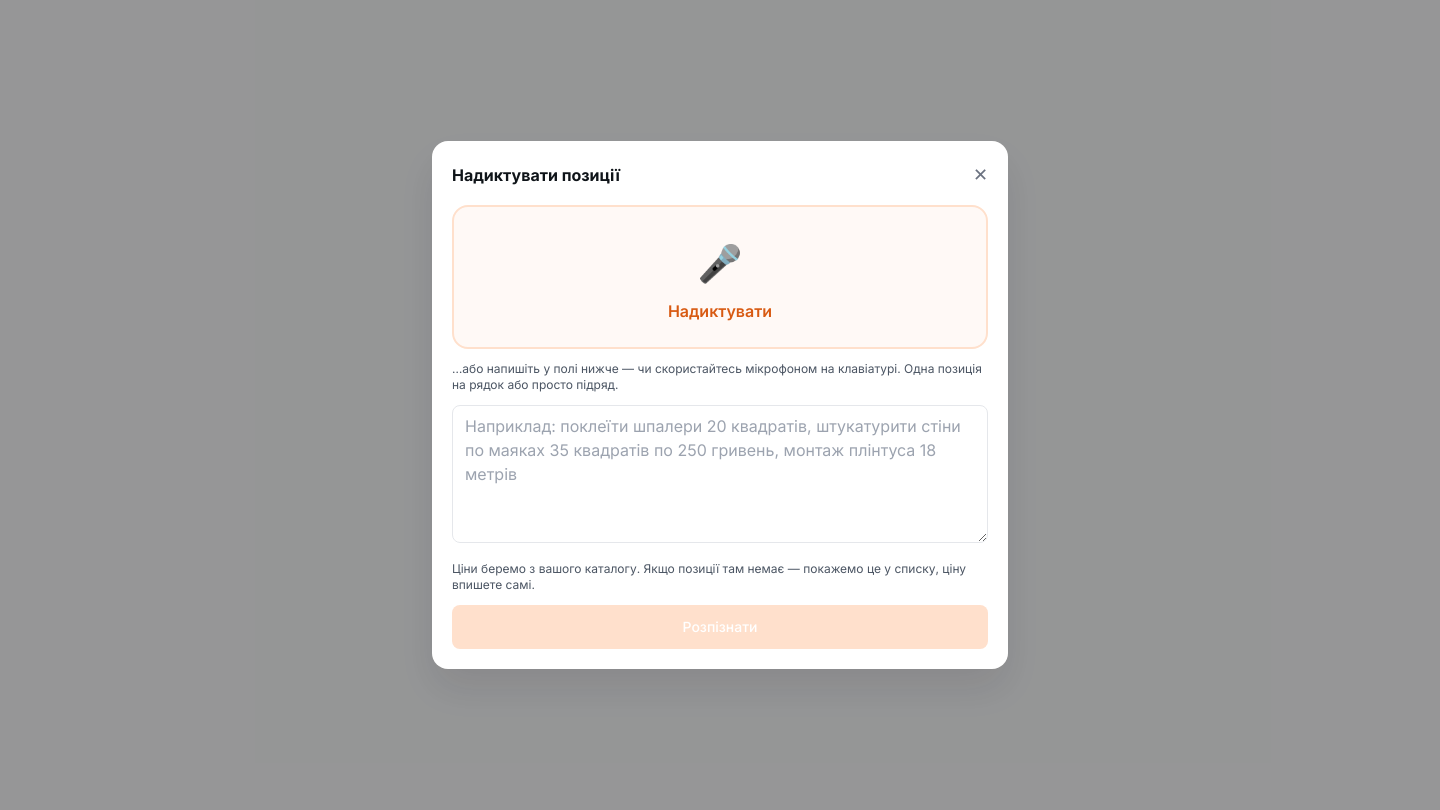
DictationSheet › blocks the commit while a row has no unit, since the estimate line cannot carry one
Replace the text in the text box named "Текст із позиціями" with "поклеїти шпалери двадцять квадратів": (720, 474) [452,405,988,543]
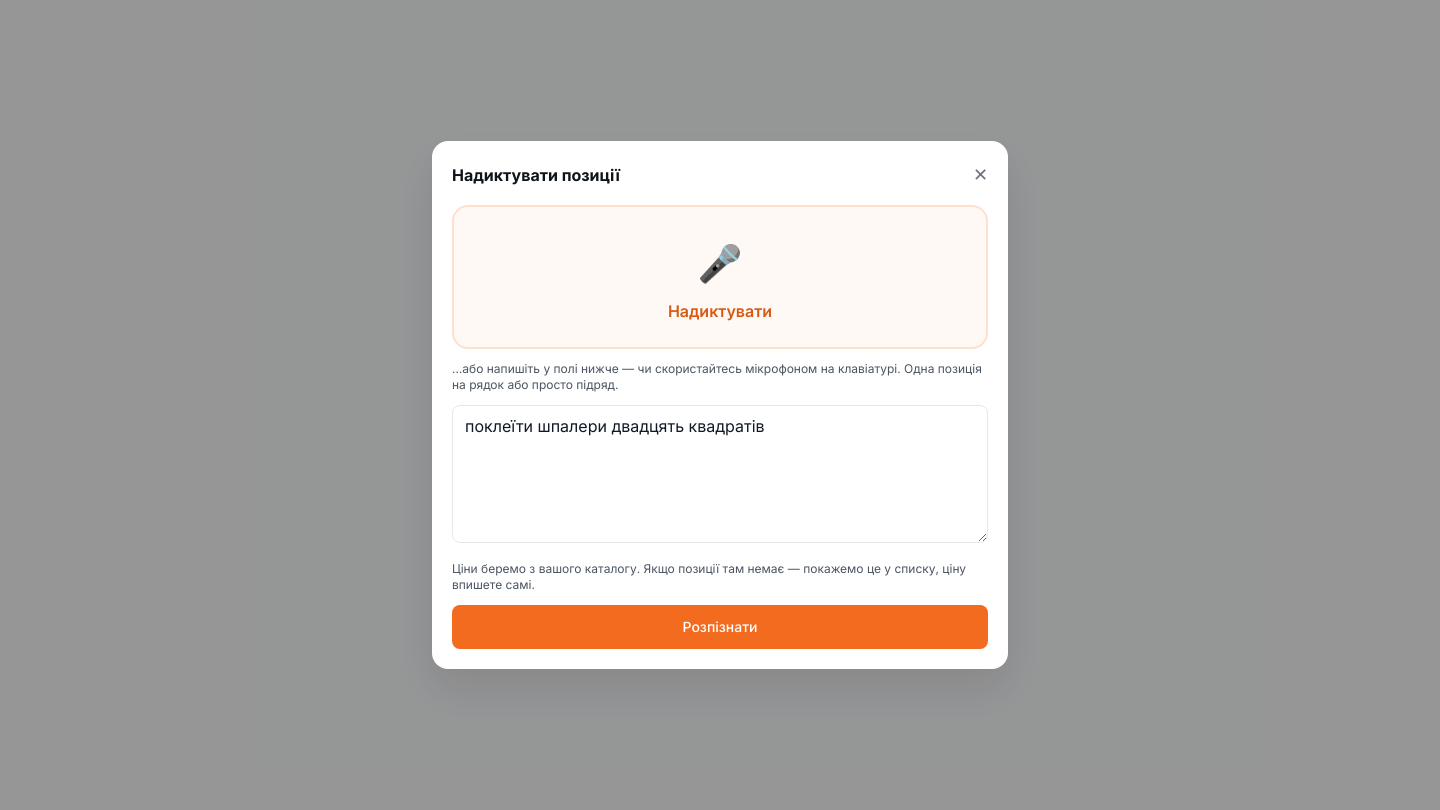
Click the button "Розпізнати": (720, 627) [452,605,988,649]
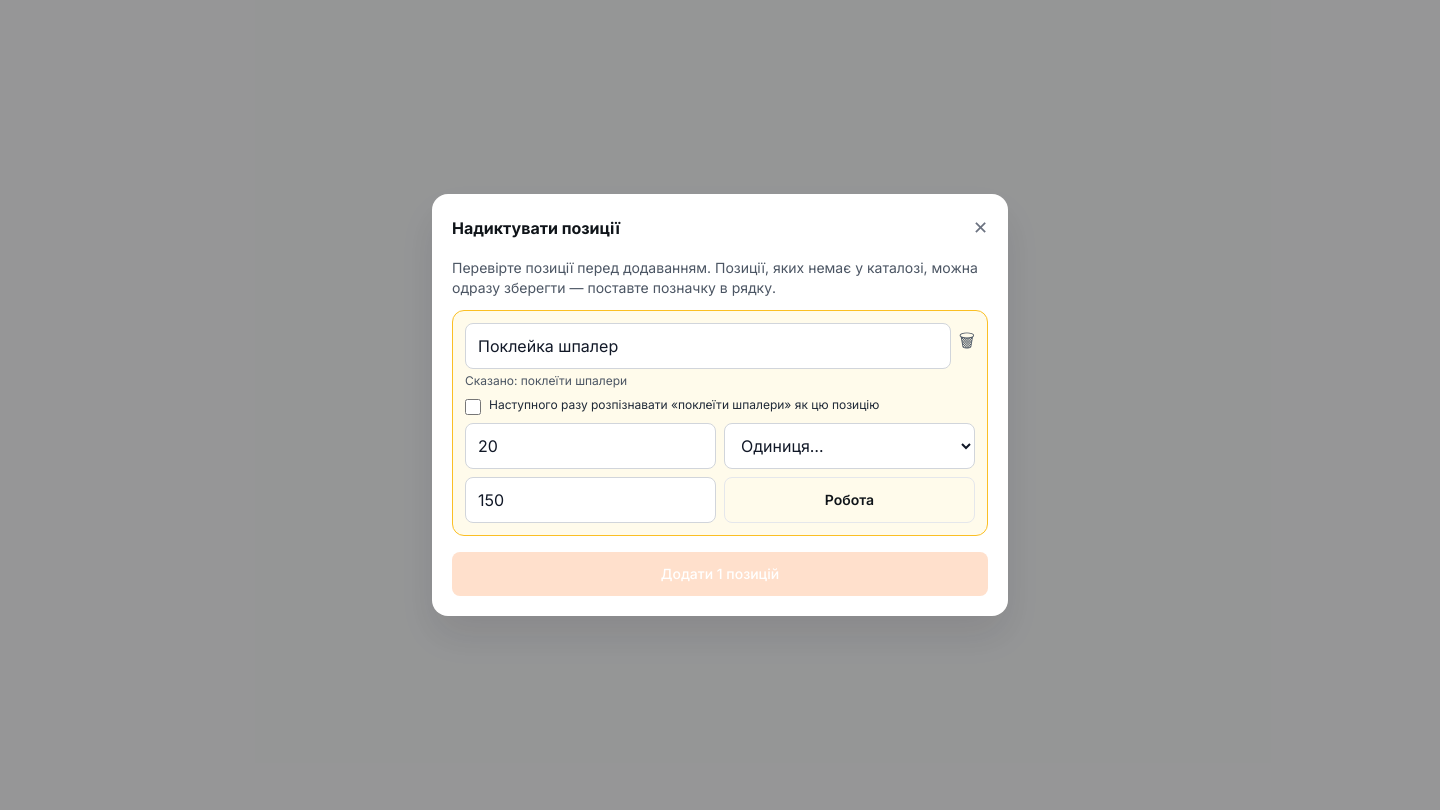
Now the button "Додати 1 позицій" is disabled, box [452,552,988,596]
